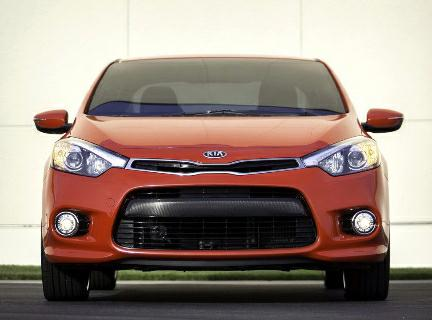起亚-速迈: (30, 47, 408, 304)
